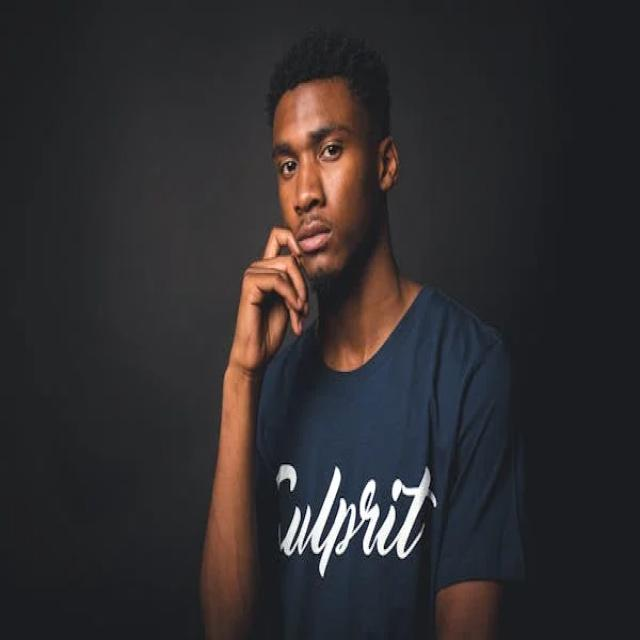Real human 2: (190, 23, 542, 640)
